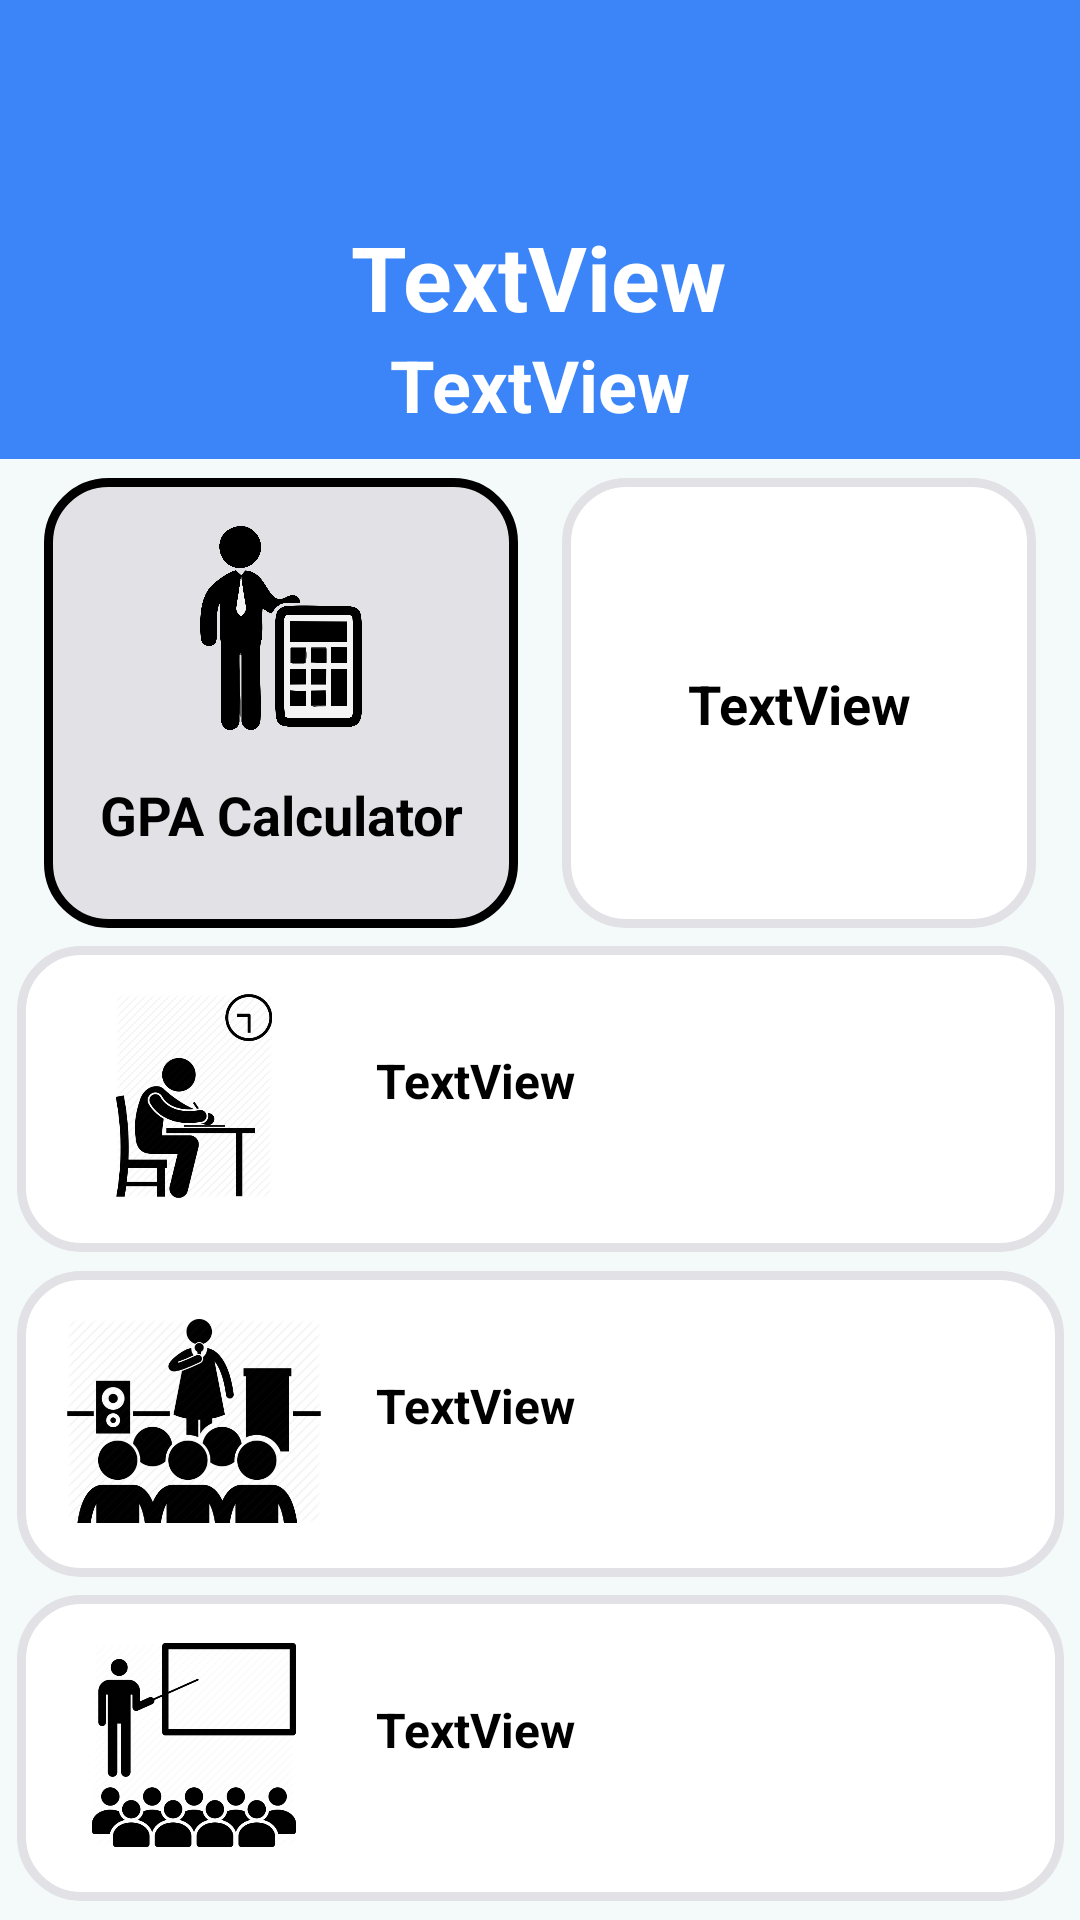

Point at icon controls on the screen. Image size 1080 x 1920, points as (x=x, y=y).
calculate: (x=281, y=628)
event: (x=194, y=1421)
exam: (x=194, y=1096)
lecture: (x=194, y=1745)
